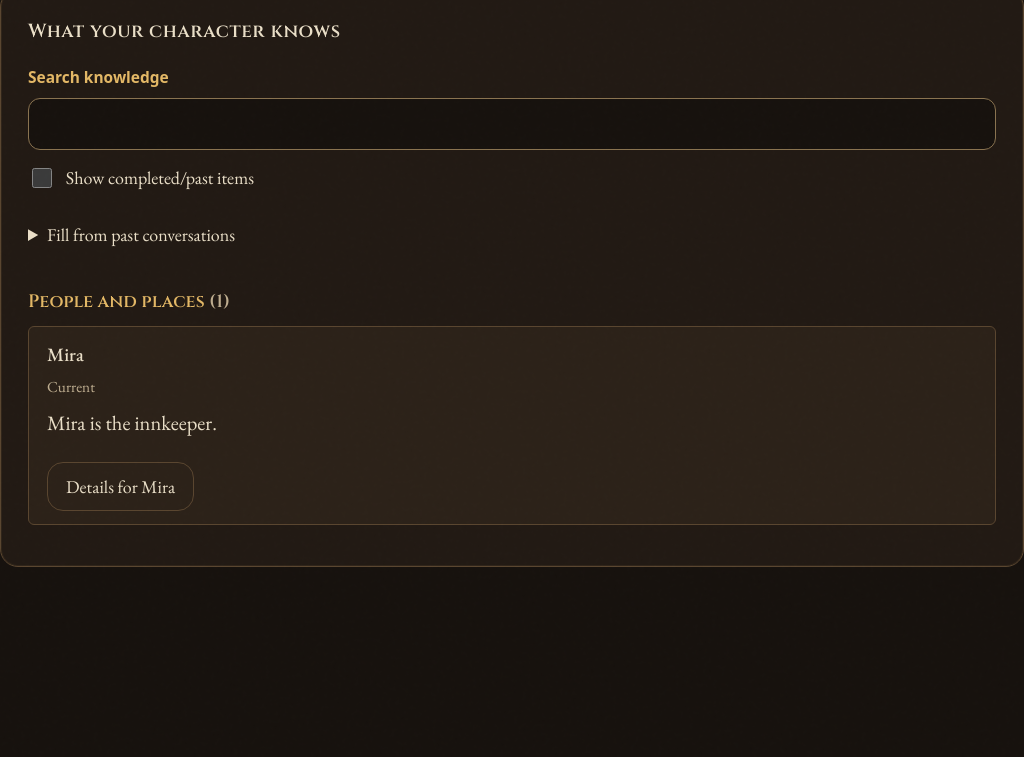
it: accepts with the proposal digest, refreshes after the confirmed commit and then closes the finding
Click the button "Details for Mira" at (121, 487), box [47,462,194,511]
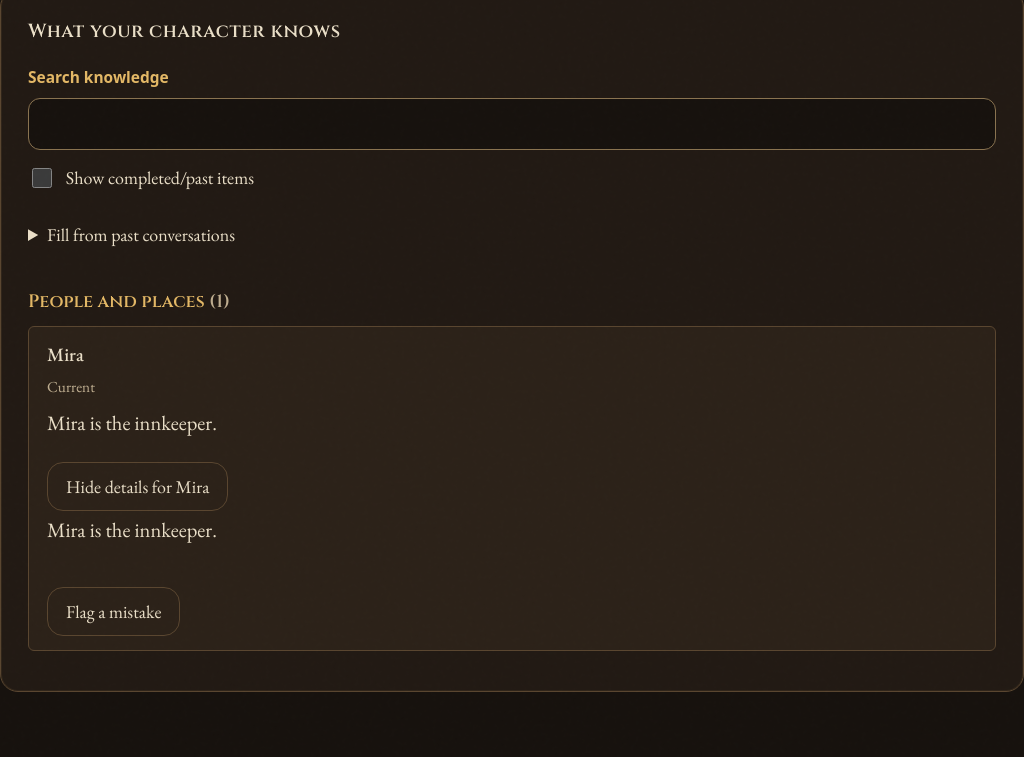
Click the button "Flag a mistake" at (114, 612), box [47,588,180,636]
(page scrolled)
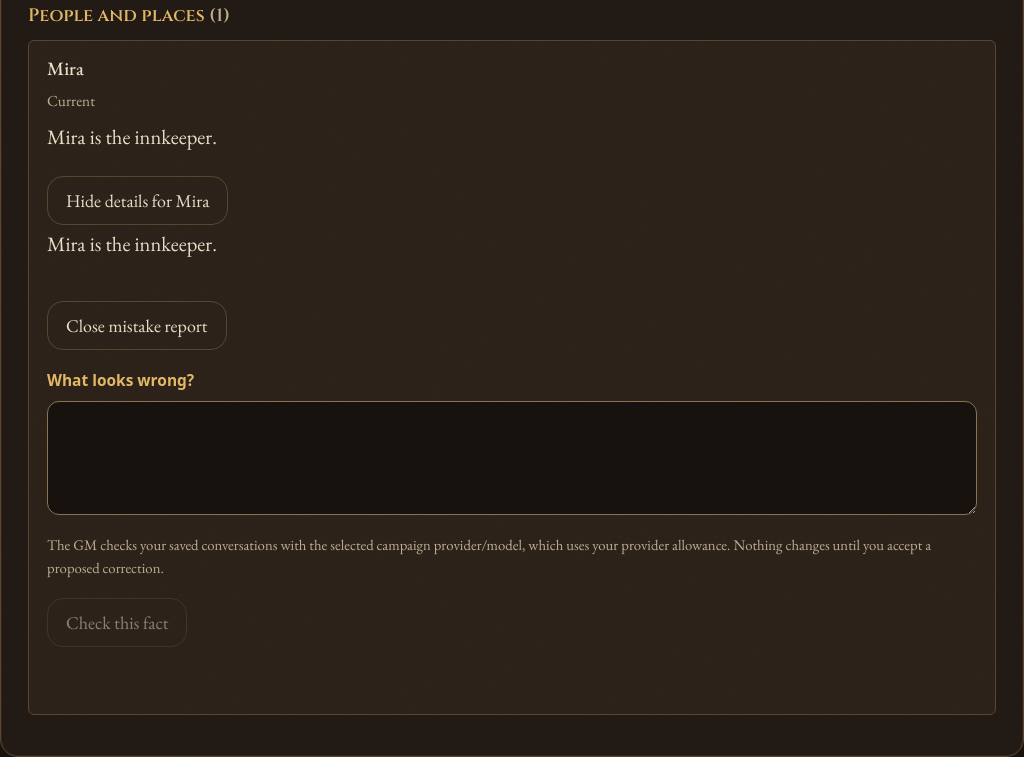
Type "wrong employer" into the text box labelled "What looks wrong?" at (512, 458), box [47,401,977,515]
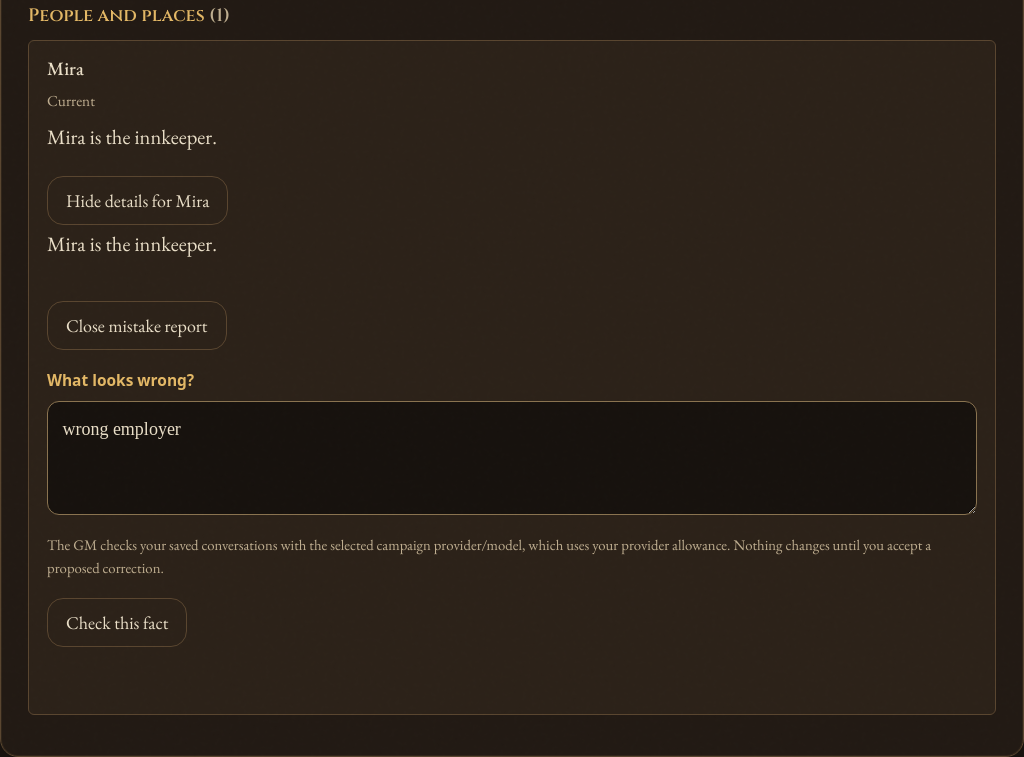
Click the button "Check this fact" at (117, 622), box [47,598,187,647]
(page scrolled)
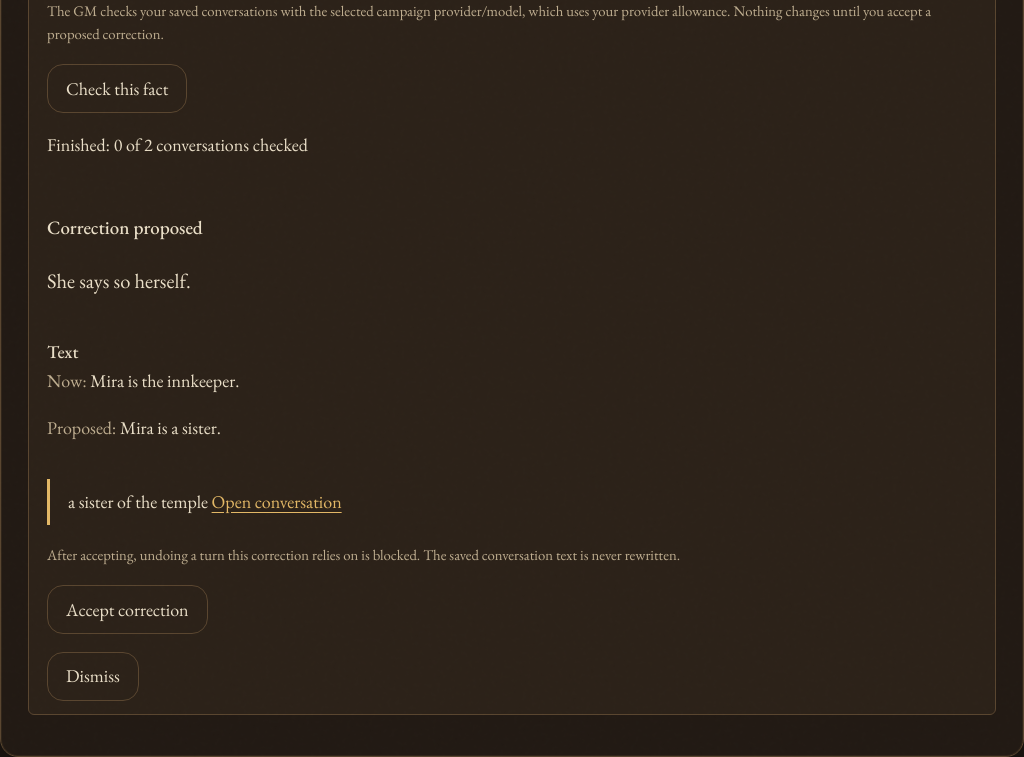
Result: the text "undoing a turn this correction relies on is blocked" is shown at [47,545,680,564]
Click the button "Accept correction" at (127, 609), box [47,585,208,634]
(page scrolled)
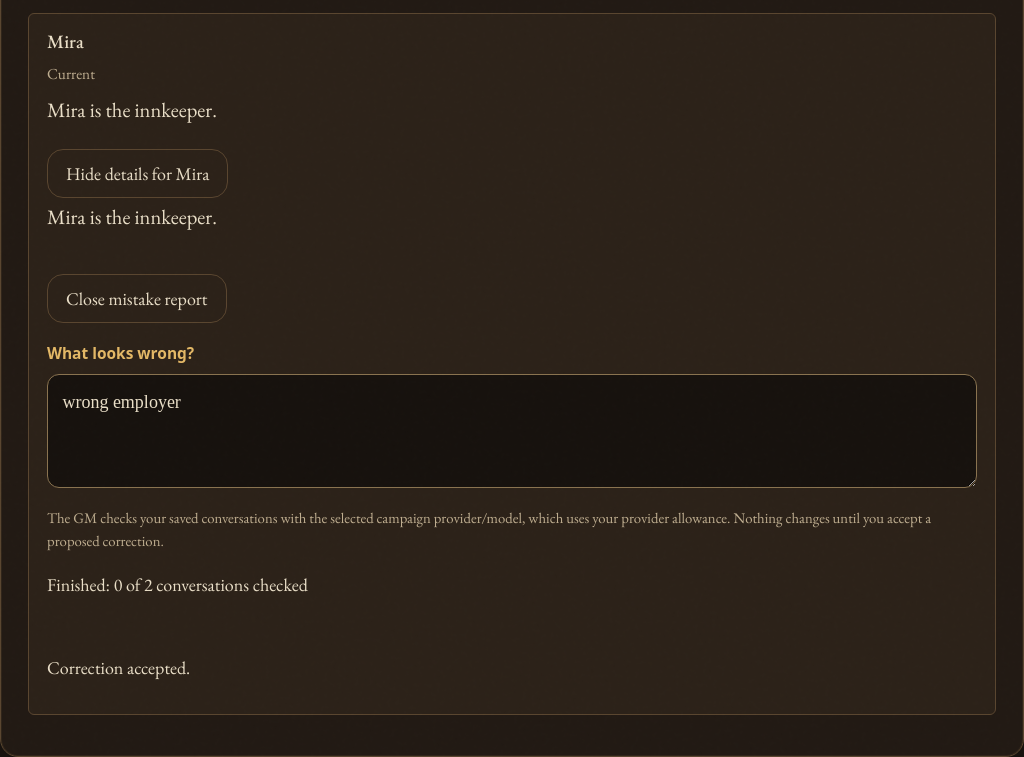
Result: the text "Correction accepted." is shown at [47,656,190,679]
Result: the button "Accept correction" is gone
